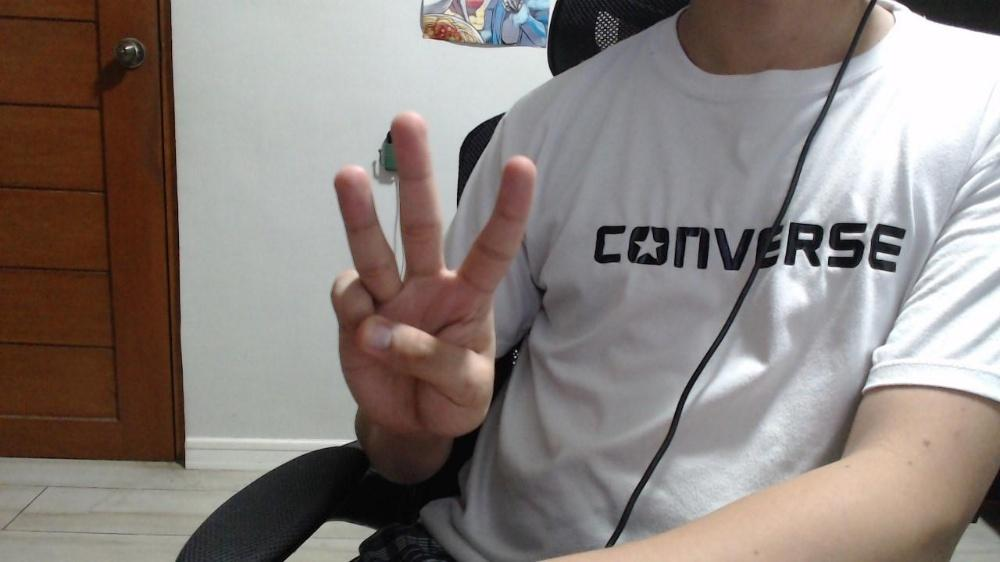w: (331, 113, 538, 437)
